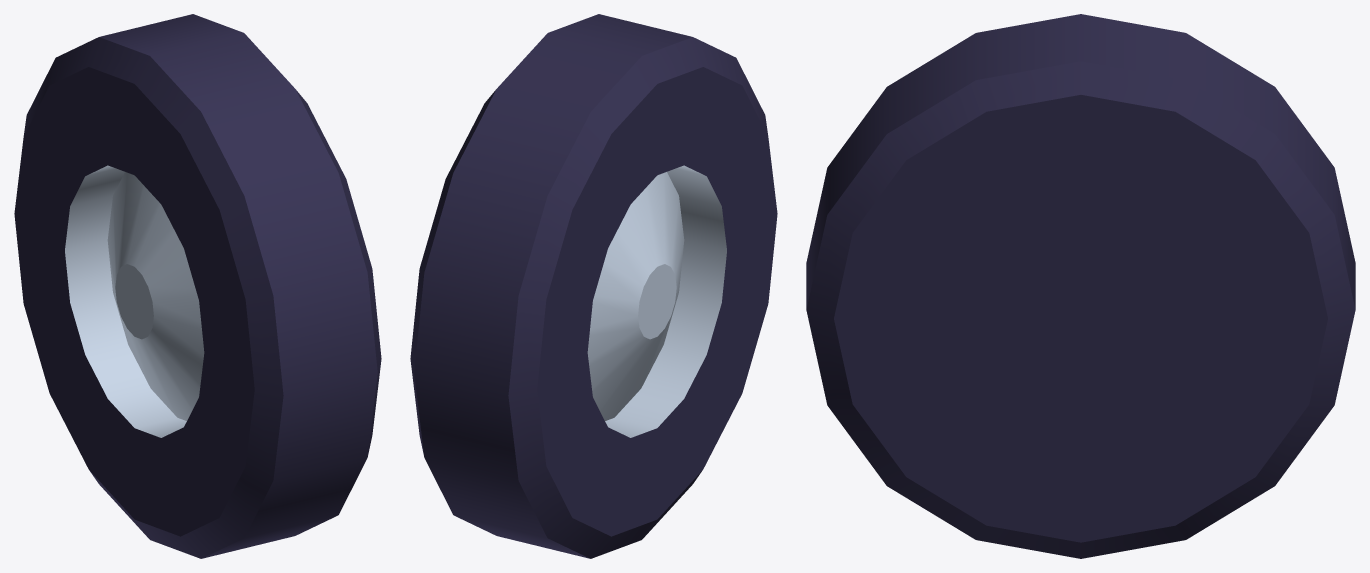
Rendered from WheelS.fbx.
3 renders of one model, left to right at view 1: azimuth 30°, elevation 25°; view 2: azimuth 150°, elevation 25°; view 3: azimuth 270°, elevation 25°, orthographic. The views are drawn at different scales.
Parts seen in each view (by area): view 1: WheelS; view 2: WheelS; view 3: WheelS.
Part boxes in pixels (box(x1,y1,x2,y2)): WheelS: box(14, 14, 381, 558); WheelS: box(410, 14, 777, 558); WheelS: box(806, 14, 1355, 558).
Bounding box in the file's own units: 0.7401 × 2.7 × 2.7.
